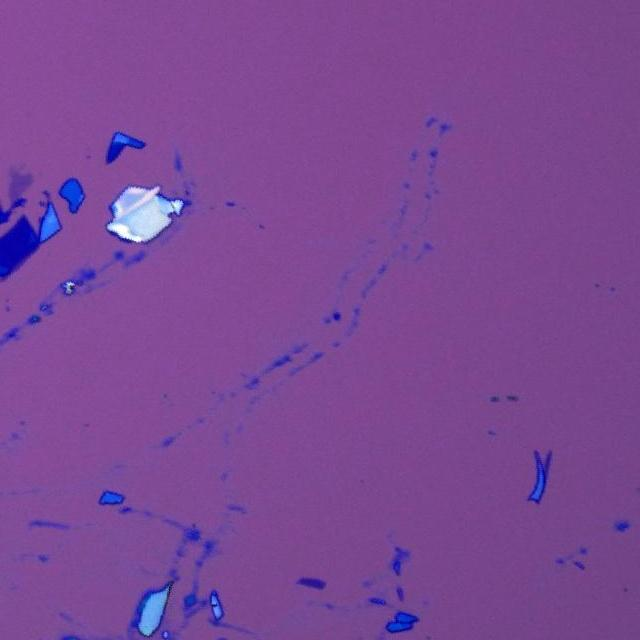monolayer-eWW4: (5, 164, 36, 202)
